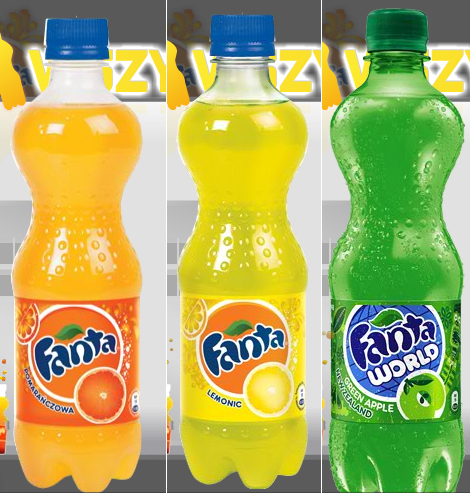Fanta: (19, 21, 150, 490)
